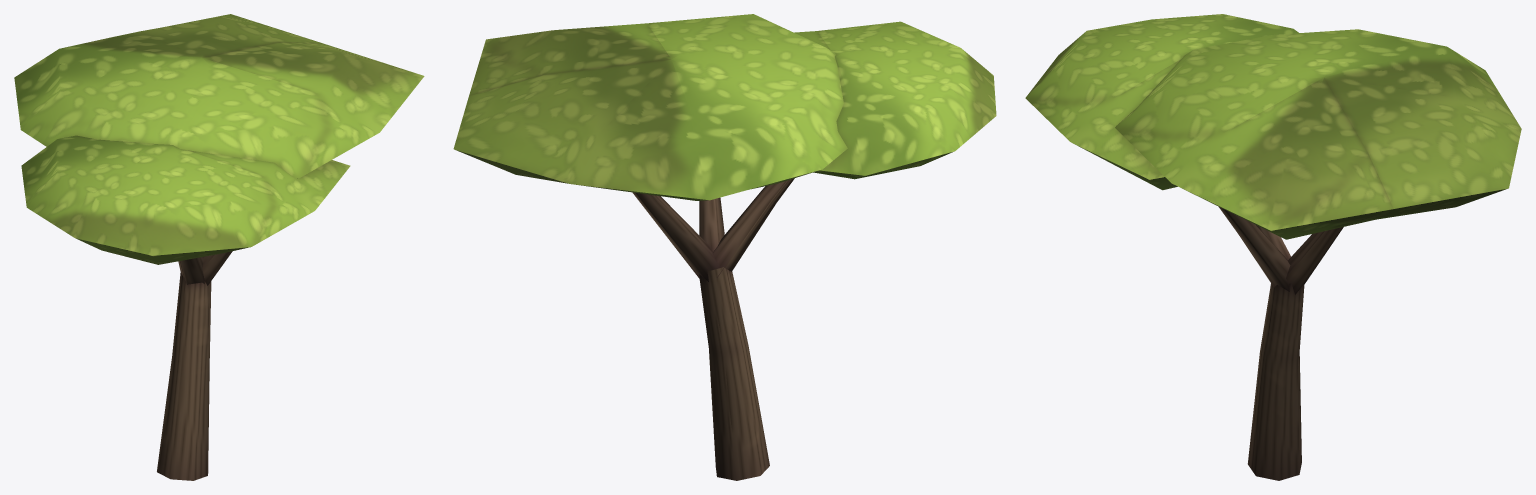
Rendered from acacia_tree.obj.
3 renders of one model, left to right at view 1: azimuth 30°, elevation 25°; view 2: azimuth 150°, elevation 25°; view 3: azimuth 270°, elevation 25°, orthographic. The views are drawn at different scales.
Visible parts, largest first — view 1: AcaciaTree; view 2: AcaciaTree; view 3: AcaciaTree.
Part boxes in pixels (<box>): AcaciaTree: <box>14,14,424,480</box>; AcaciaTree: <box>453,14,996,480</box>; AcaciaTree: <box>1025,14,1521,480</box>.
Size of the model in its own units: 5.47 by 4.88 by 5.31.
1 material, 1 textured.
